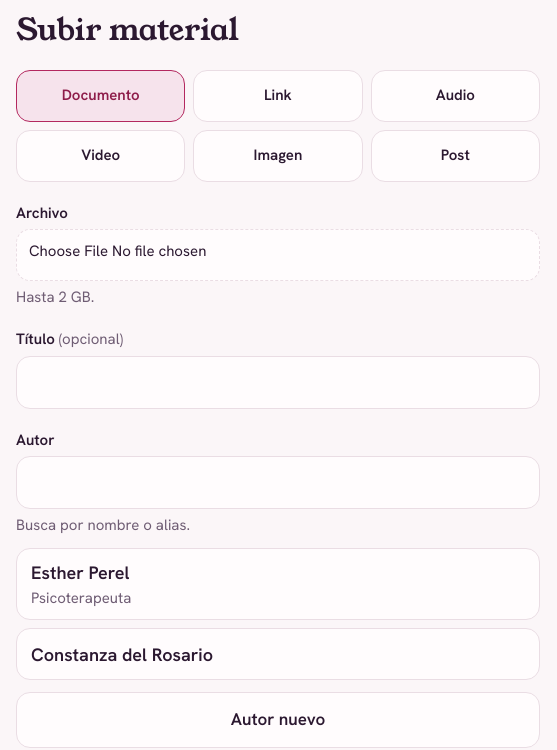
Test case: FormularioSubida: tipos › asks for the address for a link, with no file
Click the radio button labelled "Link": (278,96) top-left (193, 70), bottom-right (363, 122)
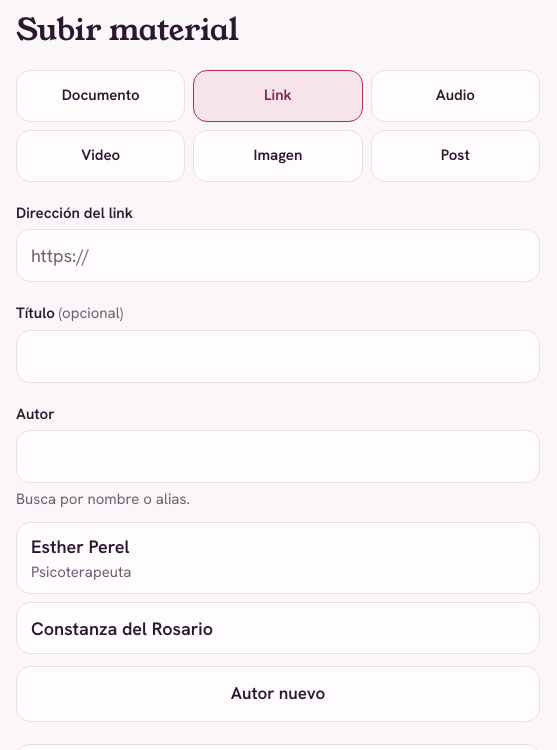
Expected: the field labelled "Dirección del link" is shown, top-left (16, 229), bottom-right (540, 282)
Expected: the label labelled "Archivo" is gone
